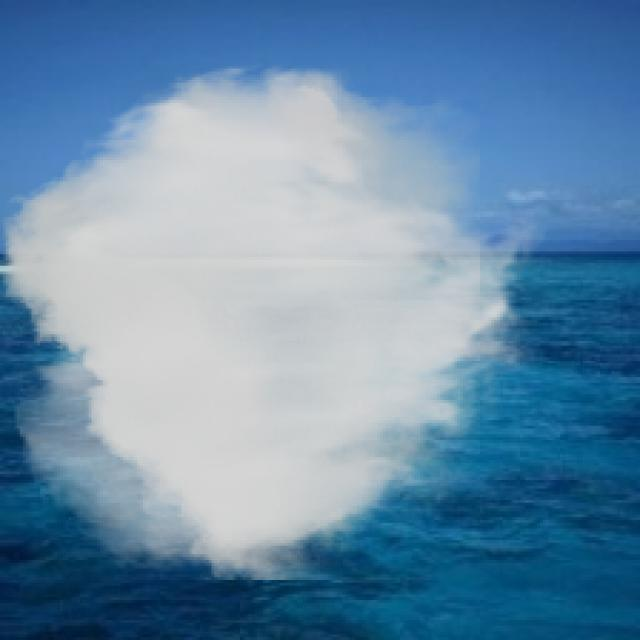smoke: (3, 60, 548, 580)
